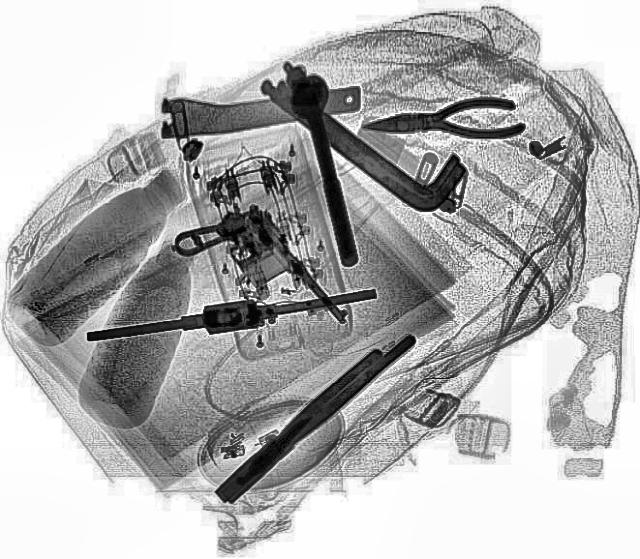Gun: (165, 194, 349, 362)
Pliers: (360, 94, 528, 148)
